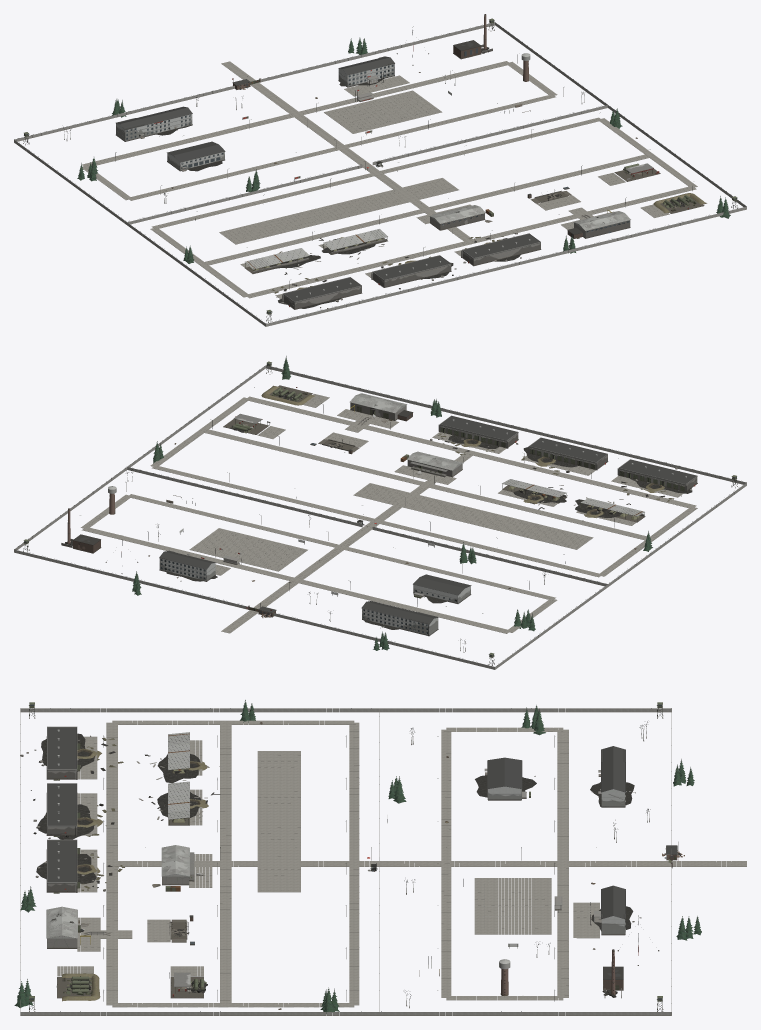
Rendered from site_garr_w.glb.
The picture shows the model from 3 angles, top to bottom: view 1: azimuth 30°, elevation 25°; view 2: azimuth 150°, elevation 25°; view 3: azimuth 270°, elevation 25°; orthographic projection. The views are drawn at different scales.
Parts seen in each view (by area): view 1: deco|tile_conc, deco|tile_po2, deco_trees|A_A, b_barracks1|A_A, b_box2|A_A, b_box1|A_A, b_box3|A_A, deco|A_A, b_hq|A_A, b_canteen|A_A, b_pto|A_A, b_shelter1|A_A (+3 smaller); view 2: deco|tile_conc, deco|tile_po2, deco_trees|A_A, b_barracks1|A_A, b_box1|A_A, b_box3|A_A, b_box2|A_A, deco|A_A, b_canteen|A_A, b_hq|A_A, b_pto|A_A, b_store|A_A (+11 smaller); view 3: deco|tile_conc, deco|tile_po2, deco_trees|A_A, deco|A_A, b_box1|A_A, b_box2|A_A, b_box3|A_A, b_canteen|A_A, b_barracks1|A_A, b_hq|A_A, b_pto_ruin|A_B, b_gsm|A_A (+11 smaller).
Part boxes in pixels (bbox=[...]): deco|tile_conc: bbox=[82, 61, 697, 298]; deco|tile_po2: bbox=[14, 22, 746, 326]; deco_trees|A_A: bbox=[63, 37, 730, 263]; b_barracks1|A_A: bbox=[116, 106, 192, 141]; b_box2|A_A: bbox=[371, 255, 451, 287]; b_box1|A_A: bbox=[282, 277, 362, 309]; b_box3|A_A: bbox=[461, 233, 541, 266]; deco|A_A: bbox=[14, 14, 740, 323]; b_hq|A_A: bbox=[338, 56, 394, 87]; b_canteen|A_A: bbox=[167, 141, 225, 171]; b_pto|A_A: bbox=[567, 210, 630, 238]; b_shelter1|A_A: bbox=[245, 248, 309, 273]; deco|tile_conc: bbox=[81, 394, 697, 633]; deco|tile_po2: bbox=[14, 365, 746, 669]; deco_trees|A_A: bbox=[126, 356, 652, 652]; b_barracks1|A_A: bbox=[361, 601, 438, 636]; b_box1|A_A: bbox=[617, 459, 697, 491]; b_box3|A_A: bbox=[438, 415, 518, 448]; b_box2|A_A: bbox=[528, 437, 608, 470]; deco|A_A: bbox=[14, 361, 743, 665]; b_canteen|A_A: bbox=[413, 574, 471, 603]; b_hq|A_A: bbox=[159, 551, 215, 581]; b_pto|A_A: bbox=[349, 393, 412, 424]; b_store|A_A: bbox=[407, 451, 462, 477]; deco|tile_conc: bbox=[57, 720, 746, 1007]; deco|tile_po2: bbox=[20, 708, 671, 1015]; deco_trees|A_A: bbox=[14, 700, 701, 1013]; deco|A_A: bbox=[29, 702, 671, 1011]; b_box1|A_A: bbox=[46, 726, 80, 779]; b_box2|A_A: bbox=[46, 783, 80, 835]; b_box3|A_A: bbox=[46, 839, 80, 892]; b_canteen|A_A: bbox=[484, 757, 530, 800]; b_barracks1|A_A: bbox=[598, 746, 625, 807]; b_hq|A_A: bbox=[590, 885, 625, 935]; b_pto_ruin|A_B: bbox=[46, 906, 110, 948]; b_gsm|A_A: bbox=[56, 973, 100, 1001].
Bounding box in the file's own units: 430 × 32.39 × 439.
52 materials, 36 textured.
